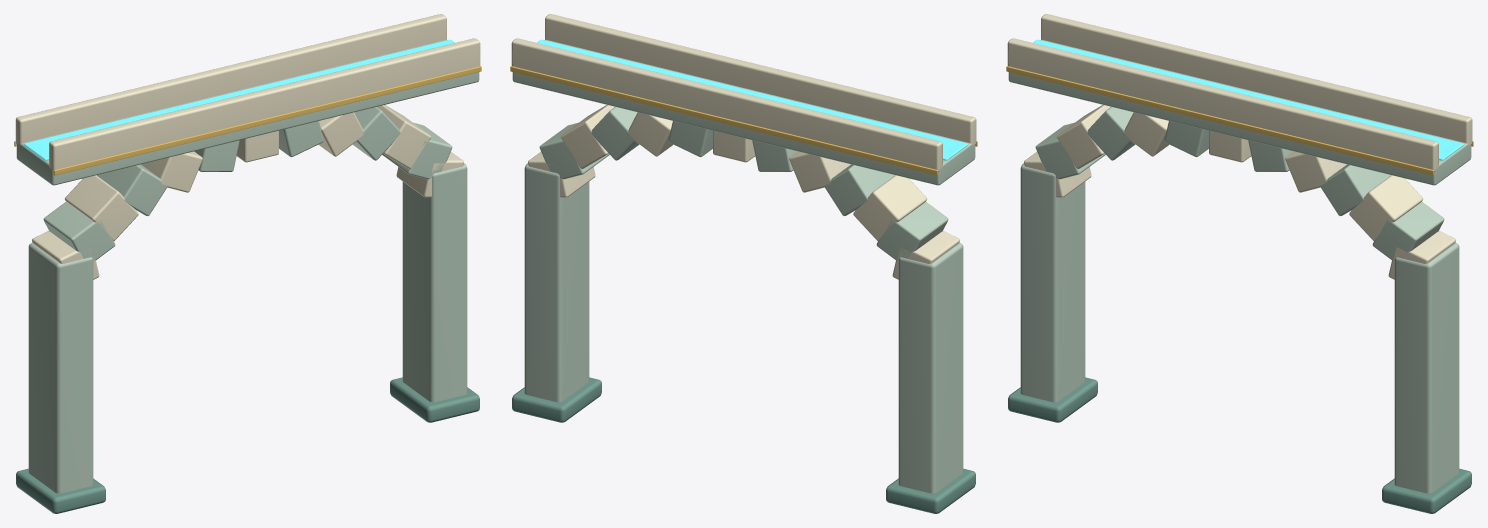
The model's file is aqueduct.glb.
3 renders of one model, left to right at view 1: azimuth 30°, elevation 25°; view 2: azimuth 150°, elevation 25°; view 3: azimuth 330°, elevation 25°, orthographic.
Visible parts, largest first — view 1: Pier, Pier.001, Parapet, Parapet.001, ChannelBase, GoldCourse, ArchBlock.011, ChannelWater, ArchBlock.012, ArchBlock.010, PierFoot, PierFoot.001 (+10 smaller); view 2: Pier, Pier.001, Parapet.001, Parapet, ChannelBase, GoldCourse.001, ArchBlock.011, ChannelWater, ArchBlock.012, ArchBlock.010, PierFoot, PierFoot.001 (+10 smaller); view 3: Pier.001, Pier, Parapet, Parapet.001, ChannelBase, GoldCourse, ArchBlock.003, ChannelWater, ArchBlock.002, ArchBlock.004, PierFoot.001, PierFoot (+10 smaller).
Part boxes in pixels (box(x1,y1,x2,y2)): Pier: box(28, 243, 93, 493); Pier.001: box(402, 163, 467, 402); Parapet: box(49, 38, 480, 171); Parapet.001: box(15, 14, 446, 144); ChannelBase: box(16, 39, 479, 185); GoldCourse: box(53, 66, 481, 175); ArchBlock.011: box(65, 175, 138, 240); ChannelWater: box(24, 39, 454, 160); ArchBlock.012: box(43, 202, 115, 260); ArchBlock.010: box(97, 164, 167, 215); PierFoot: box(16, 468, 105, 513); PierFoot.001: box(390, 377, 479, 422); Pier: box(898, 243, 963, 493); Pier.001: box(524, 163, 589, 402); Parapet.001: box(511, 38, 942, 171); Parapet: box(545, 14, 976, 145); ChannelBase: box(512, 39, 975, 185); GoldCourse.001: box(510, 66, 938, 175); ArchBlock.011: box(853, 175, 926, 240); ChannelWater: box(537, 39, 967, 160); ArchBlock.012: box(876, 202, 948, 260); ArchBlock.010: box(824, 164, 894, 215); PierFoot: box(886, 468, 975, 513); PierFoot.001: box(512, 377, 601, 422); Pier.001: box(1394, 243, 1459, 493); Pier: box(1020, 163, 1085, 402); Parapet: box(1007, 38, 1438, 171); Parapet.001: box(1041, 14, 1472, 145); ChannelBase: box(1008, 39, 1471, 185); GoldCourse: box(1006, 66, 1434, 175); ArchBlock.003: box(1349, 175, 1422, 240); ChannelWater: box(1033, 39, 1463, 160); ArchBlock.002: box(1372, 202, 1444, 260); ArchBlock.004: box(1320, 164, 1390, 215); PierFoot.001: box(1382, 468, 1471, 513); PierFoot: box(1008, 377, 1097, 422).
Size of the model in its own units: 8 by 6.63 by 1.31.
